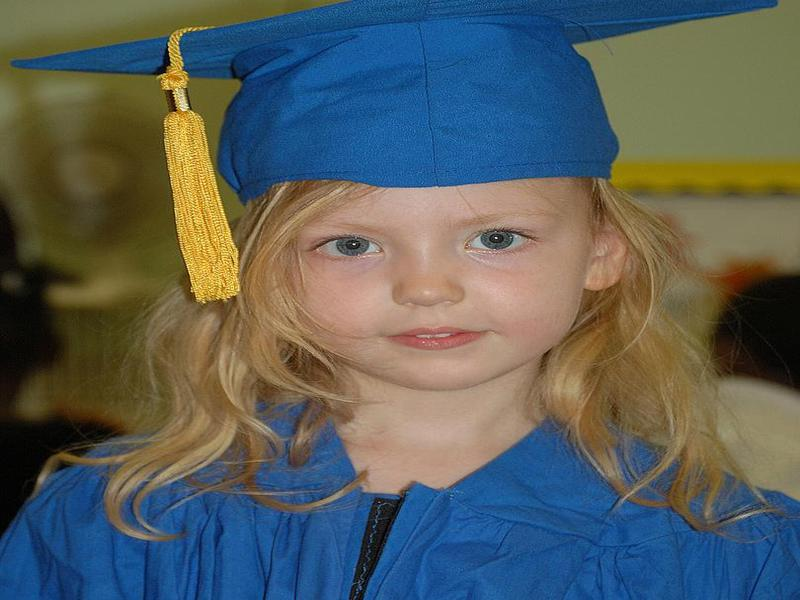person: (15, 9, 793, 600)
